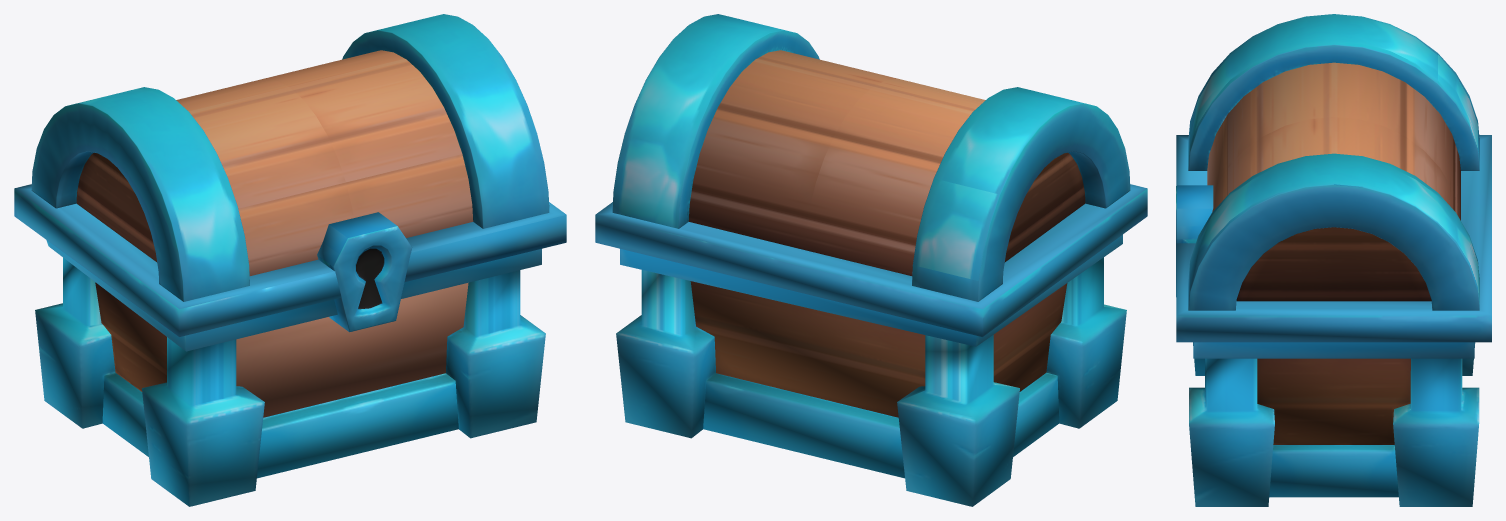
File: NewChest.fbx
3 views of the same model, side by side, from view 1: azimuth 30°, elevation 25°; view 2: azimuth 150°, elevation 25°; view 3: azimuth 270°, elevation 25° (orthographic). The views are drawn at different scales.
Visible parts, largest first — view 1: Chest_Bottom.002, Chest_Up.002; view 2: Chest_Bottom.002, Chest_Up.002; view 3: Chest_Up.002, Chest_Bottom.002.
Boxes of the visible parts, bbox=[...] form: Chest_Bottom.002: bbox=[14, 184, 566, 506]; Chest_Up.002: bbox=[31, 14, 549, 301]; Chest_Bottom.002: bbox=[595, 184, 1147, 506]; Chest_Up.002: bbox=[612, 14, 1130, 301]; Chest_Up.002: bbox=[1188, 14, 1479, 310]; Chest_Bottom.002: bbox=[1176, 135, 1491, 506].
Bounding box in the file's own units: 551 × 465 × 407.
Materials: 1 (1 with a texture image).
